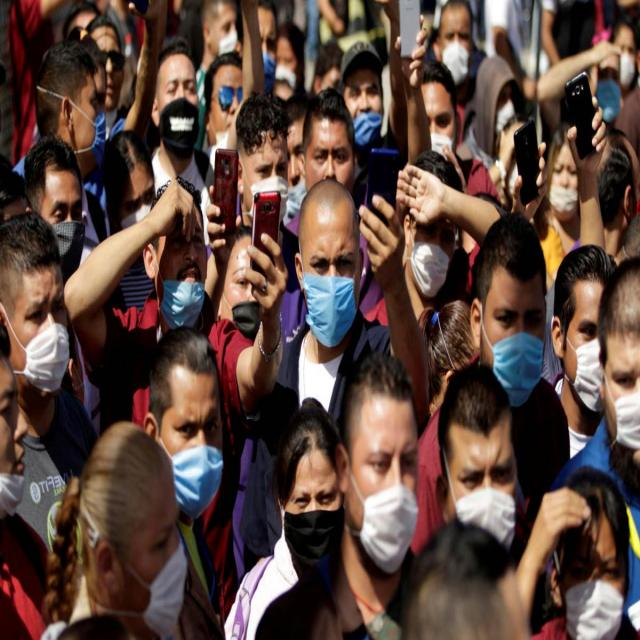adult: (228, 180, 396, 590), (66, 180, 287, 460), (262, 344, 422, 640), (425, 215, 572, 488), (0, 213, 94, 545), (15, 28, 149, 253), (222, 393, 344, 640), (73, 414, 192, 640), (391, 149, 502, 357), (148, 320, 231, 562), (514, 466, 625, 640), (0, 309, 54, 640), (438, 367, 521, 540), (553, 245, 616, 434), (595, 257, 640, 459), (24, 136, 87, 278), (152, 34, 211, 178), (236, 87, 292, 234), (536, 128, 582, 269), (202, 40, 260, 140), (303, 89, 356, 198), (434, 0, 474, 86)
